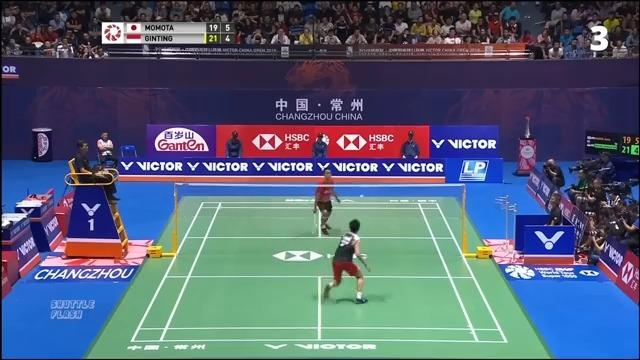Shuttlecock: (359, 193, 367, 202)
